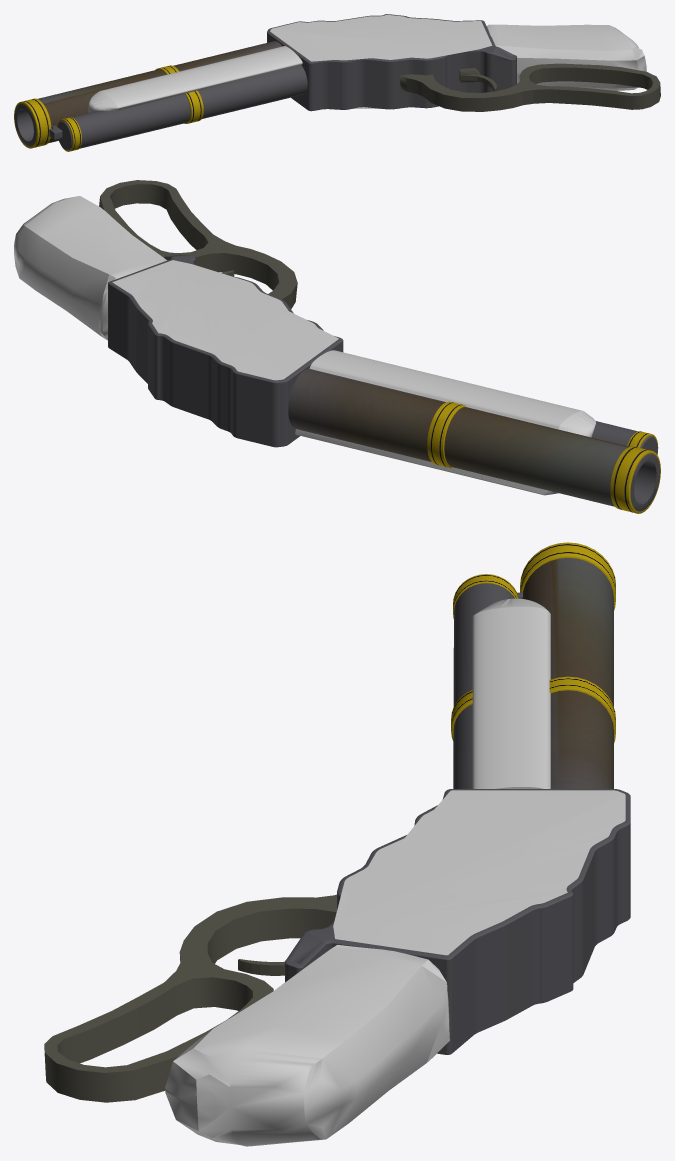
3 views of the same model, one above another, from view 1: azimuth 30°, elevation 25°; view 2: azimuth 150°, elevation 25°; view 3: azimuth 270°, elevation 25° (orthographic). The views are drawn at different scales.
Visible parts, largest first — view 1: Gun_3, Gun_5, Gun_1, Gun_4, Gun_2, Gun_1.001, Gun_1_2.004, Gun_6, Gun_1_2.002, Gun_1_2.001; view 2: Gun_3, Gun_1.001, Gun_4, Gun_2, Gun_5, Gun_1_2.004, Gun_1_2.003, Gun_1; view 3: Gun_3, Gun_4, Gun_5, Gun_2, Gun_1.001, Gun_1, Gun_1_2.004, Gun_1_2.003.
Boxes of the visible parts, x1,y1,x2,y2 form: Gun_3: (267,14,516,111); Gun_5: (399,63,660,111); Gun_1: (49,65,307,150); Gun_4: (486,24,646,90); Gun_2: (88,46,302,112); Gun_1.001: (14,41,282,146); Gun_1_2.004: (14,98,51,148); Gun_6: (459,68,496,91); Gun_1_2.002: (184,90,203,123); Gun_1_2.001: (57,117,81,151); Gun_3: (108,254,343,447); Gun_1.001: (288,369,659,511); Gun_4: (14,196,167,340); Gun_2: (295,350,595,495); Gun_5: (99,180,297,309); Gun_1_2.004: (610,446,660,513); Gun_1_2.003: (427,401,465,467); Gun_1: (592,421,657,454); Gun_3: (285,789,630,1054); Gun_4: (165,945,449,1146); Gun_5: (44,894,336,1102); Gun_2: (472,598,550,788); Gun_1.001: (522,558,613,788); Gun_1: (453,583,594,788); Gun_1_2.004: (520,542,615,610); Gun_1_2.003: (549,676,615,742).
Bounding box in the file's own units: 295 × 26.1 × 140.
